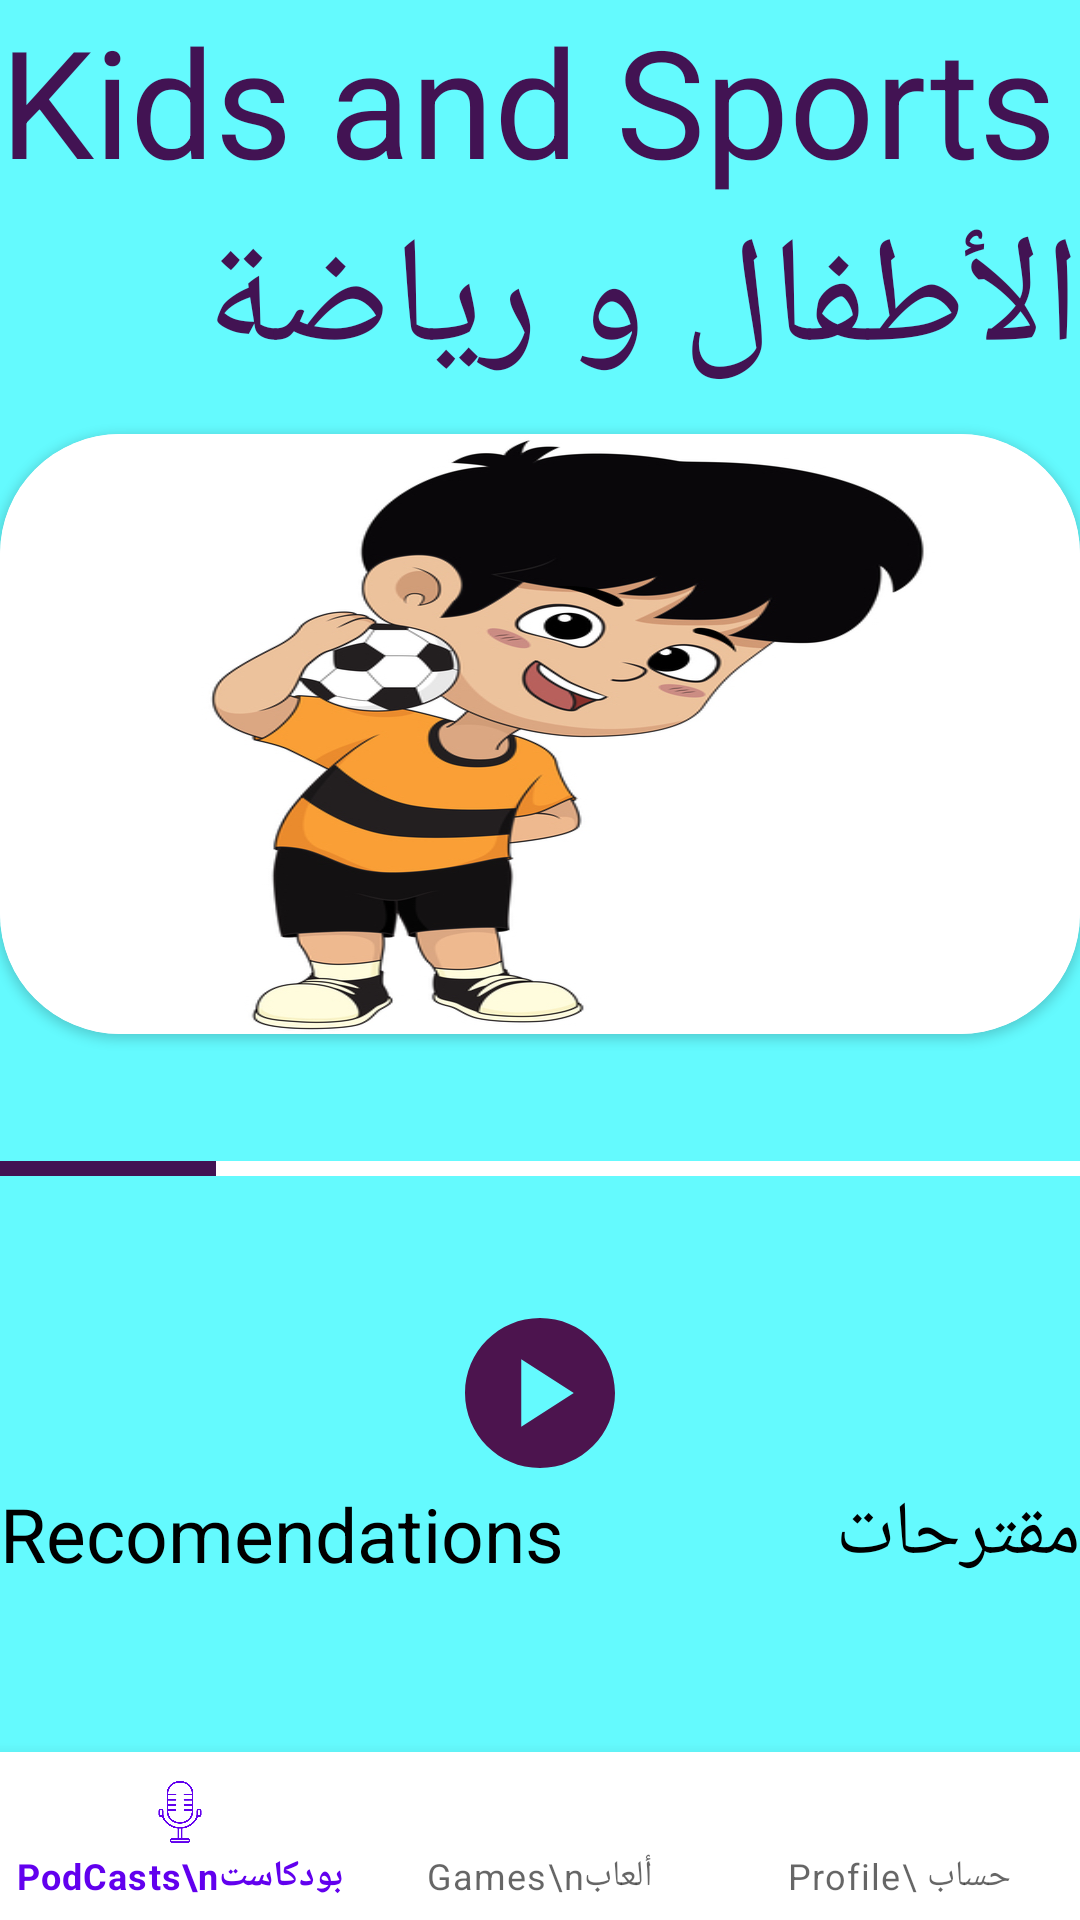

Screen size 1080 × 1920. Icon name, then its box in pixels as (x1, y1, x2, y2):
play circle: (465, 1318, 615, 1468)
